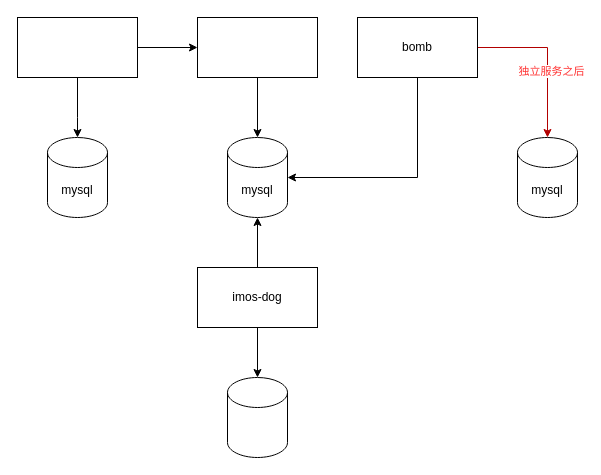
This 601x475 diagram has some shape labels left out. Each missing label, with the centre of its shape:
"oms" goes at point 257,47.
"sales" goes at point 77,47.
"sqlserver" goes at point 257,417.
